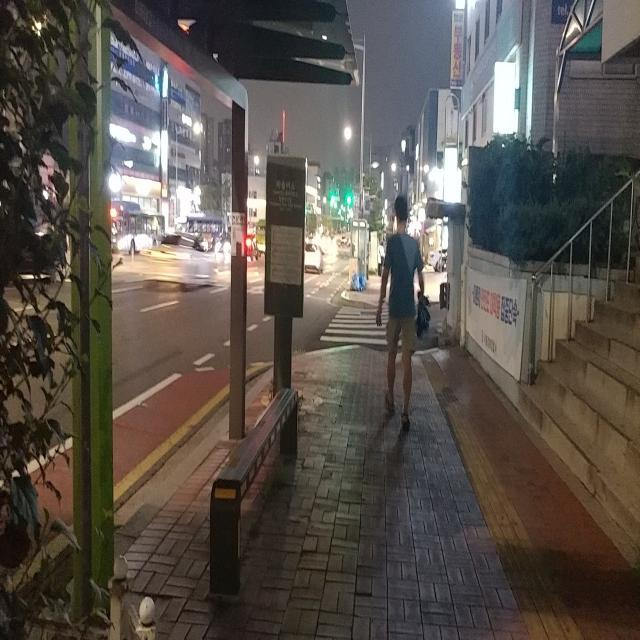횡단보도: (320, 307, 402, 346)
